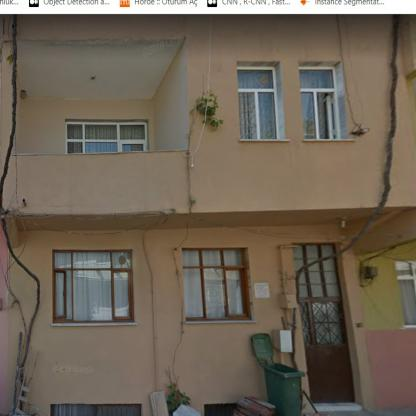door: (299, 300, 353, 402)
window: (54, 250, 132, 322), (183, 250, 250, 320), (238, 67, 279, 140), (300, 67, 339, 139), (66, 122, 147, 153), (299, 258, 339, 297), (395, 262, 415, 328), (293, 245, 334, 272), (51, 405, 139, 415), (205, 404, 235, 414)
